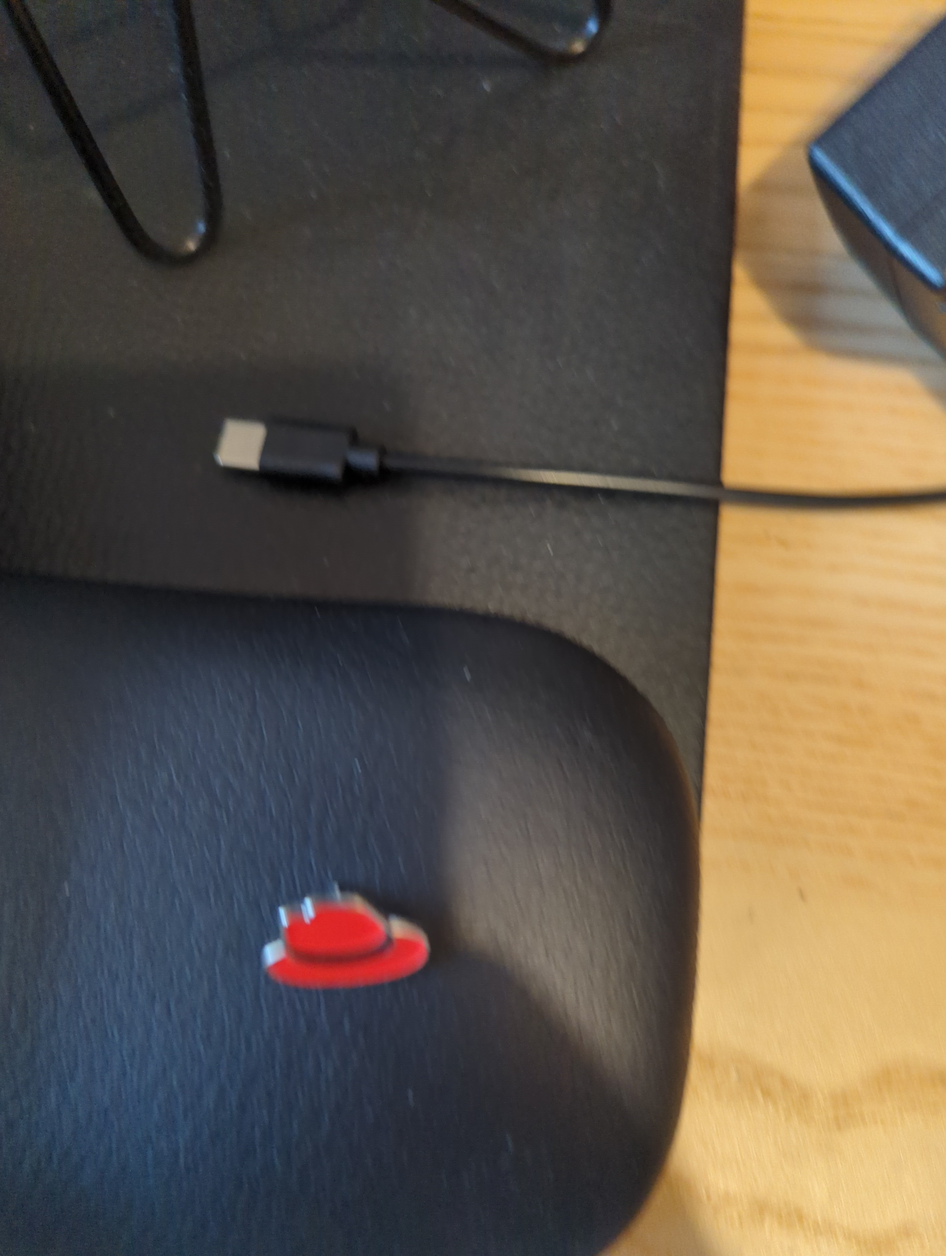Red-Hat: (188, 828, 508, 1047)
